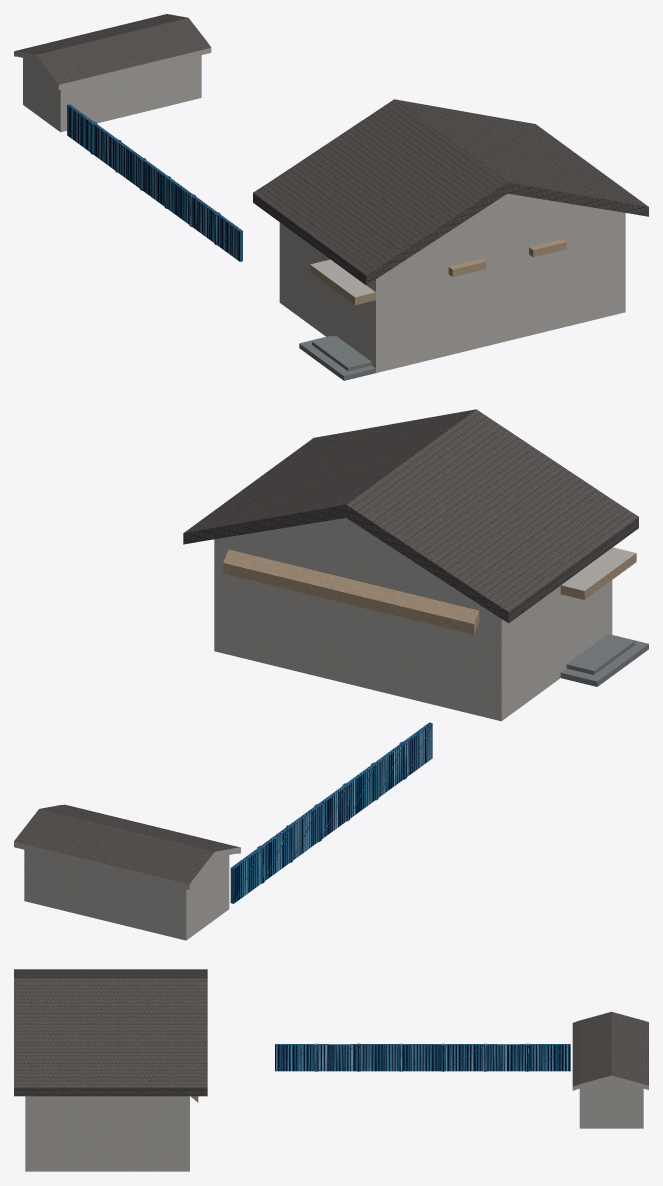
The model's file is kyudo.fbx.
3 views of the same model, one above another, from view 1: azimuth 30°, elevation 25°; view 2: azimuth 150°, elevation 25°; view 3: azimuth 270°, elevation 25° (orthographic). The views are drawn at different scales.
Visible parts, largest first — view 1: Cube, Cube.004, Cube.005, Cube.001; view 2: Cube, Cube.004, Cube.005, Cube.001; view 3: Cube, Cube.005, Cube.004.
Boxes of the visible parts, box(x1,y1,x2,y2) form: Cube: box(253, 99, 648, 372); Cube.004: box(14, 14, 211, 132); Cube.005: box(67, 104, 242, 261); Cube.001: box(299, 335, 375, 380); Cube: box(183, 409, 638, 721); Cube.004: box(14, 804, 240, 940); Cube.005: box(230, 722, 432, 903); Cube.001: box(560, 634, 648, 686); Cube: box(14, 969, 207, 1171); Cube.005: box(275, 1043, 570, 1071); Cube.004: box(572, 1011, 648, 1128).
Bounding box in the file's own units: 1346 × 714 × 2905.
